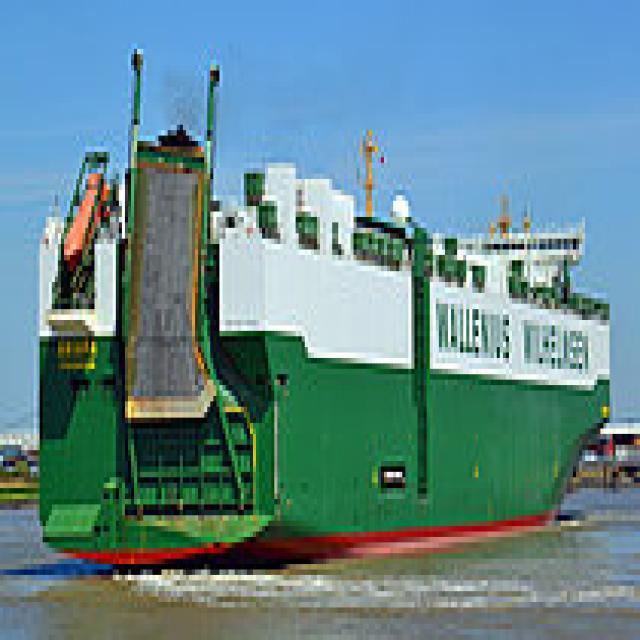Carrier: (33, 32, 610, 575)
